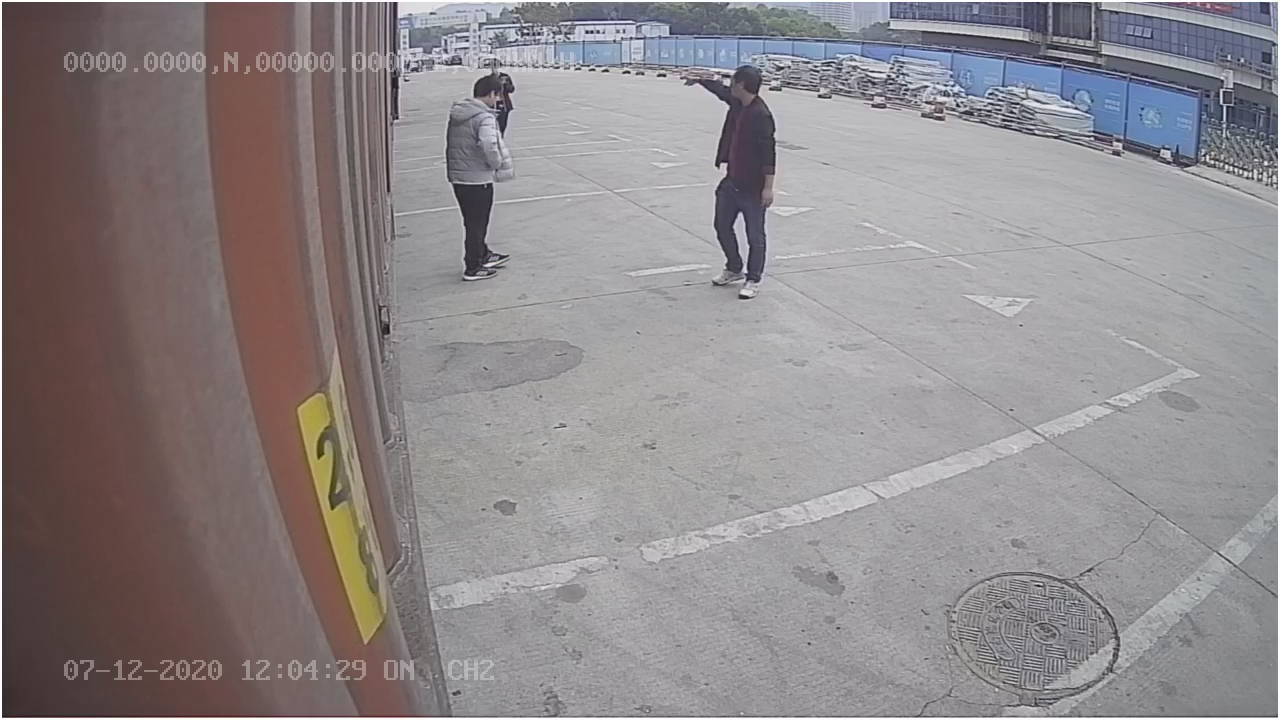person: (677, 54, 782, 301)
